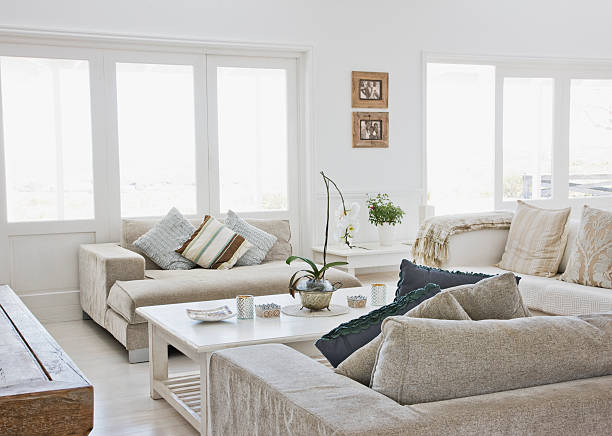flower vase: (286, 163, 366, 313)
side table: (314, 241, 410, 304)
small plant: (367, 191, 404, 247)
sofa: (204, 261, 612, 436), (76, 212, 362, 364), (411, 194, 612, 315)
table: (131, 284, 417, 424)
wall art: (350, 109, 391, 149), (349, 69, 390, 109)
